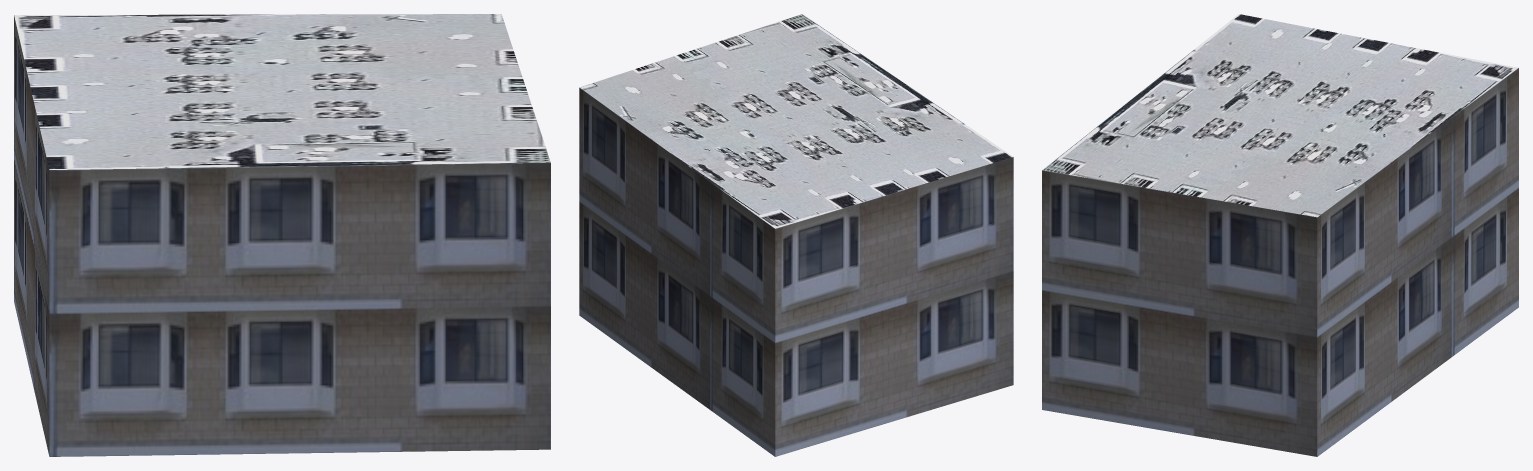
File: ResTex__808.fbx
3 renders of one model, left to right at view 1: azimuth 30°, elevation 25°; view 2: azimuth 150°, elevation 25°; view 3: azimuth 270°, elevation 25°, orthographic. The views are drawn at different scales.
Parts seen in each view (by area): view 1: CityEngineMaterial_3_m, CityEngineMaterial_m; view 2: CityEngineMaterial_3_m, CityEngineMaterial_m; view 3: CityEngineMaterial_3_m, CityEngineMaterial_m.
Part boxes in pixels (<box>): CityEngineMaterial_3_m: <box>14,15,550,456</box>; CityEngineMaterial_m: <box>14,14,550,169</box>; CityEngineMaterial_3_m: <box>579,87,1013,456</box>; CityEngineMaterial_m: <box>579,14,1012,228</box>; CityEngineMaterial_3_m: <box>1042,68,1518,456</box>; CityEngineMaterial_m: <box>1042,14,1518,217</box>.
Size of the model in its own units: 10.92 by 6 by 10.82.
2 materials, 2 textured.
